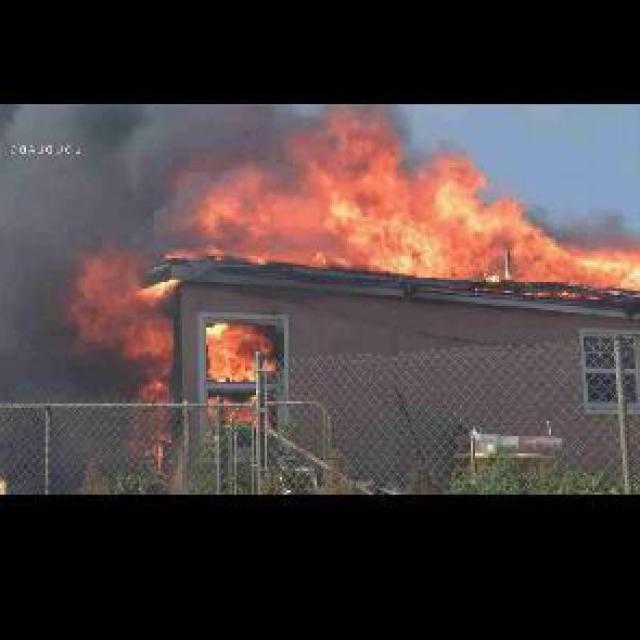fire: (200, 178, 634, 286), (76, 248, 189, 380), (200, 318, 286, 386)
smoke: (0, 113, 297, 243)
